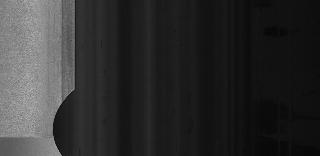welding line: (1, 133, 61, 143)
